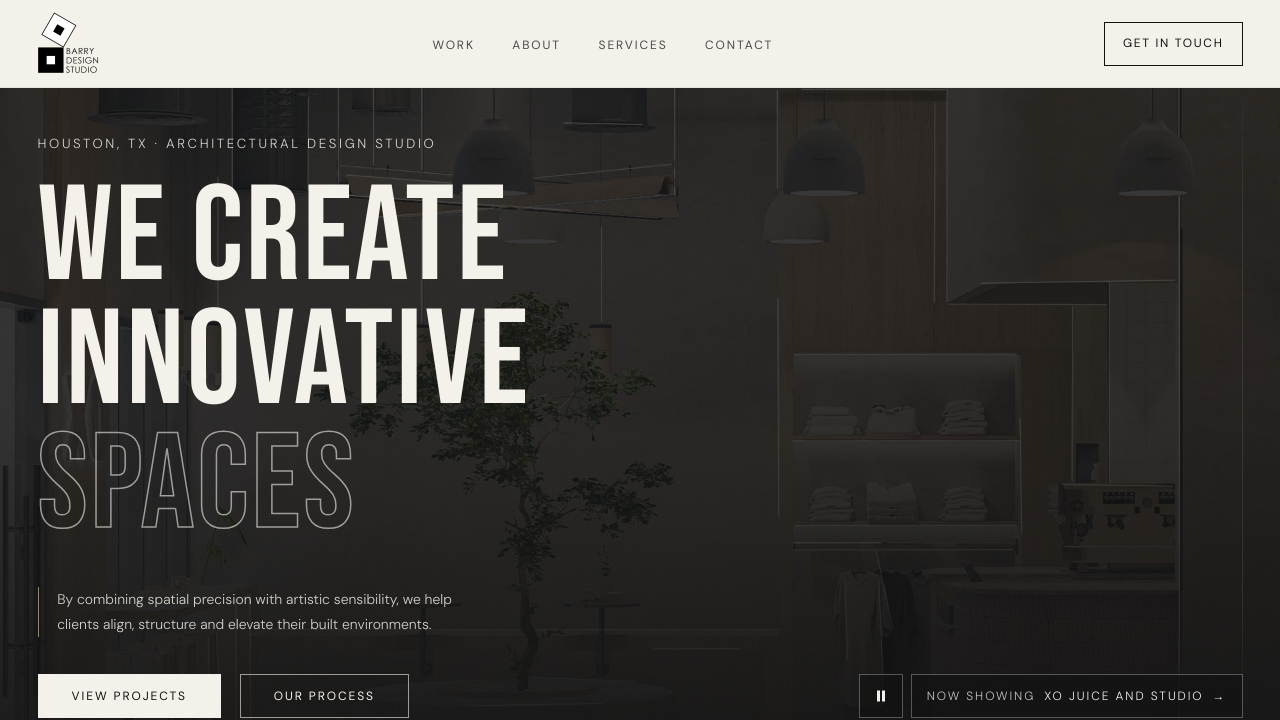
Scenario: hero pause control › pauses the reel, then plays it again
The image size is (1280, 720).
What coordinates should you click on to do the following:
click the button named "pause background video"
I would click on:
 (881, 696)
Its box is left=859, top=674, right=903, bottom=718.
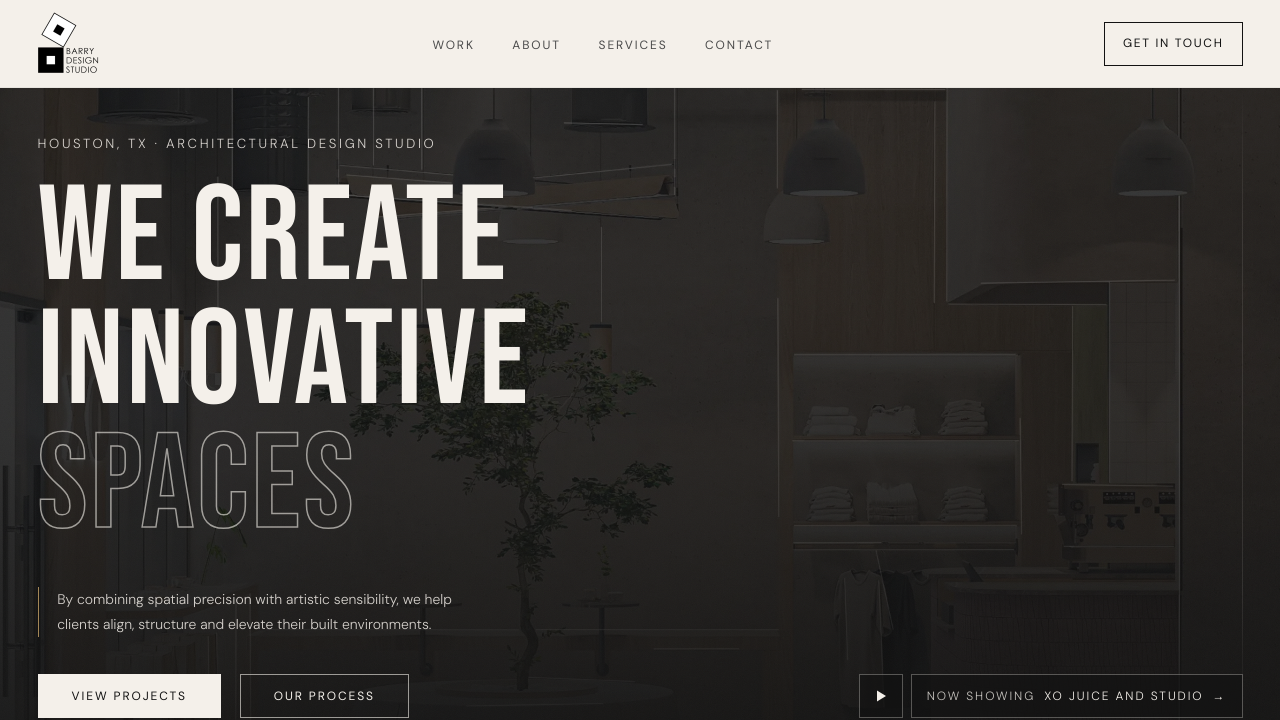
What coordinates should you click on to do the following:
click the button named "play background video"
I would click on:
 (881, 696)
Its box is left=859, top=674, right=903, bottom=718.
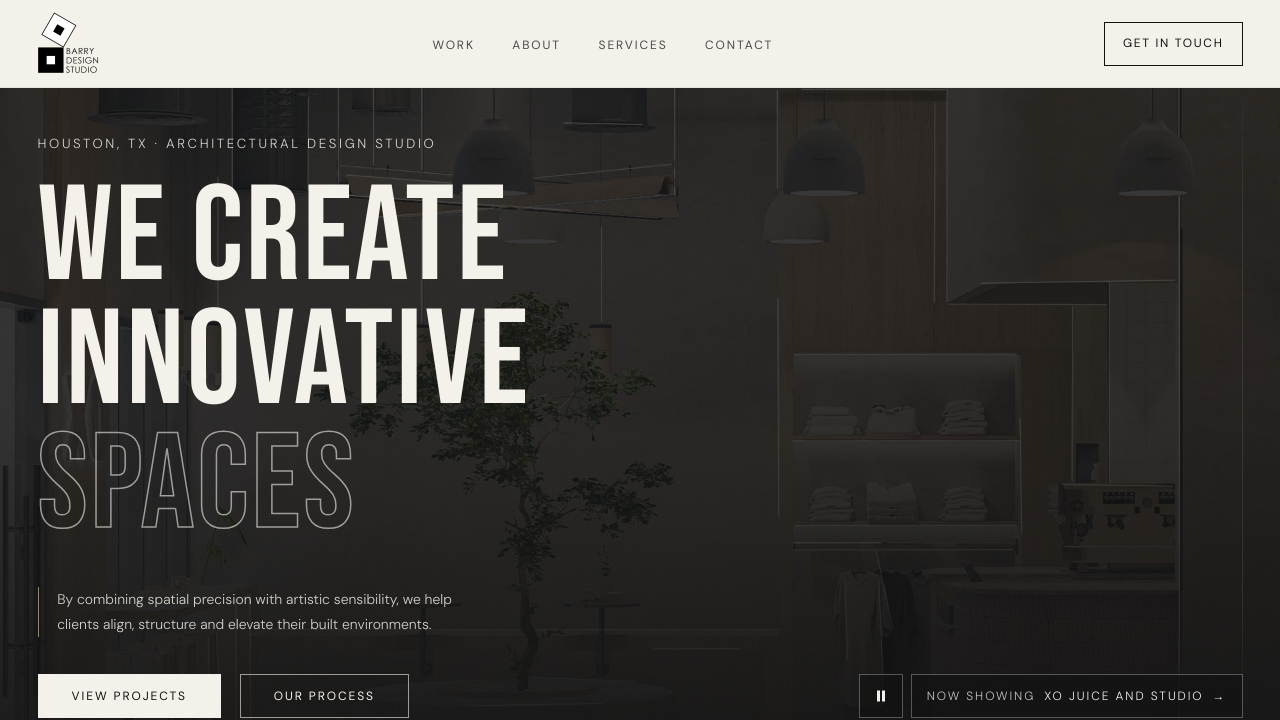
Result: the button named "pause background video" is shown at left=859, top=674, right=903, bottom=718
